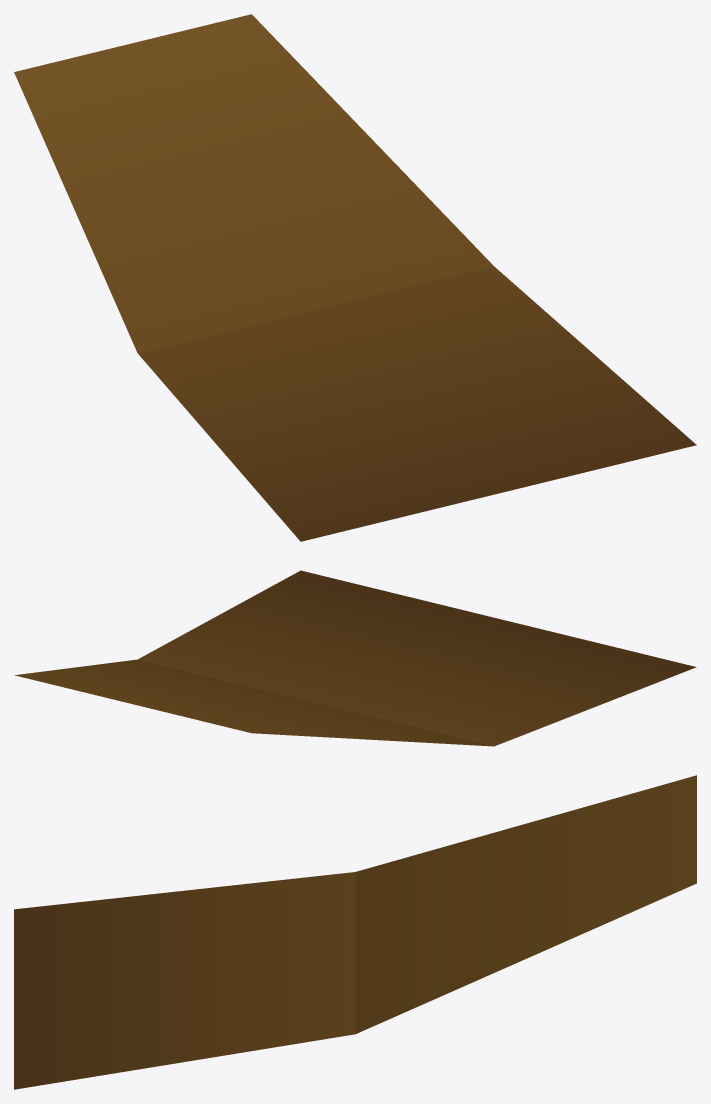
File: Accent_DriedLeaf.glb
3 renders of one model, top to bottom at view 1: azimuth 30°, elevation 25°; view 2: azimuth 150°, elevation 25°; view 3: azimuth 270°, elevation 25°, orthographic. The views are drawn at different scales.
Parts seen in each view (by area): view 1: Accent_DriedLeaf; view 2: Accent_DriedLeaf; view 3: Accent_DriedLeaf.
Boxes of the visible parts, x1,y1,x2,y2 form: Accent_DriedLeaf: (14,14,696,541); Accent_DriedLeaf: (15,570,696,746); Accent_DriedLeaf: (14,775,696,1089).
Bounding box in the file's own units: 0.025 × 0.011 × 0.04.
